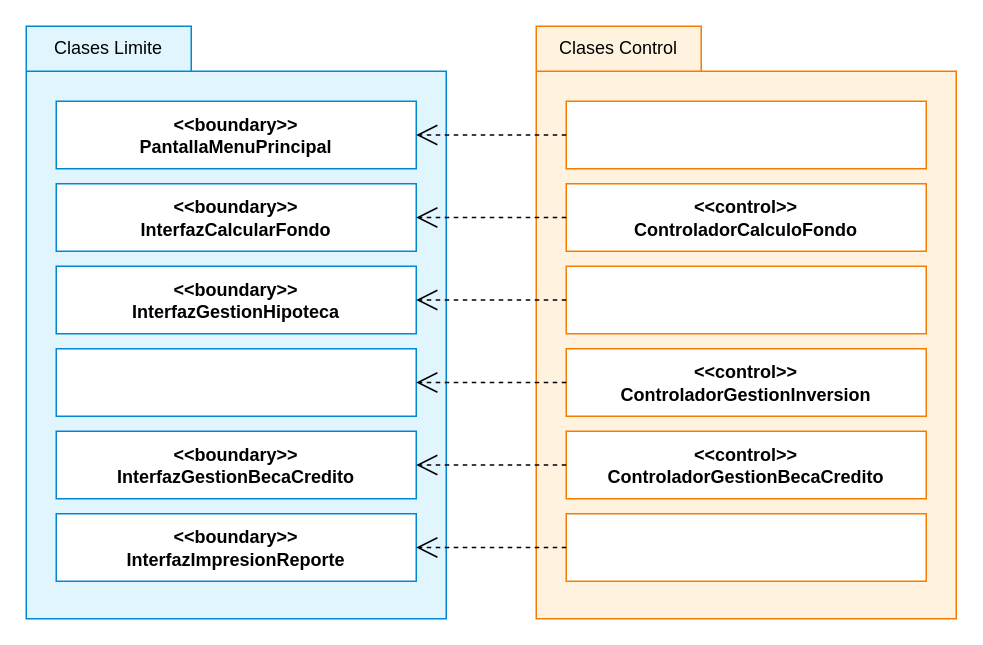
This 983x645 diagram has some shape labels left out. Each missing label, with the centre of its shape:
"<<boundary>> InterfazGestionInversion" belongs at (235,381).
"<<control>> ControladorGenerarReporte" belongs at (745,546).
"<<control>> ControladorGestionHipoteca" belongs at (745,299).
"<<control>> GestorLoopSistema" belongs at (745,134).
